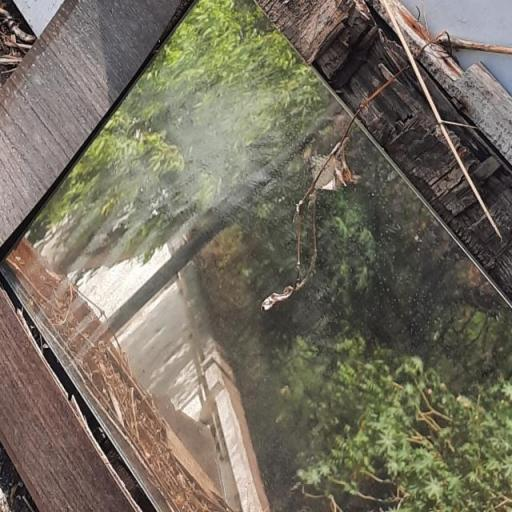glass: (53, 1, 512, 512)
